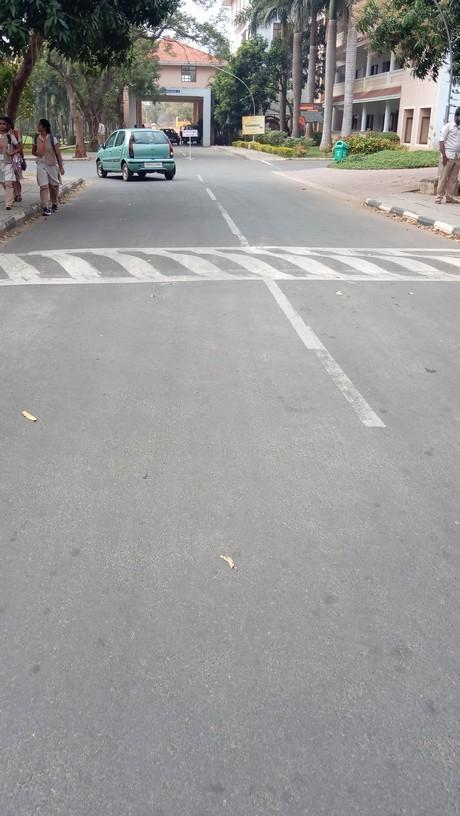speedbreaker: (4, 242, 460, 292)
